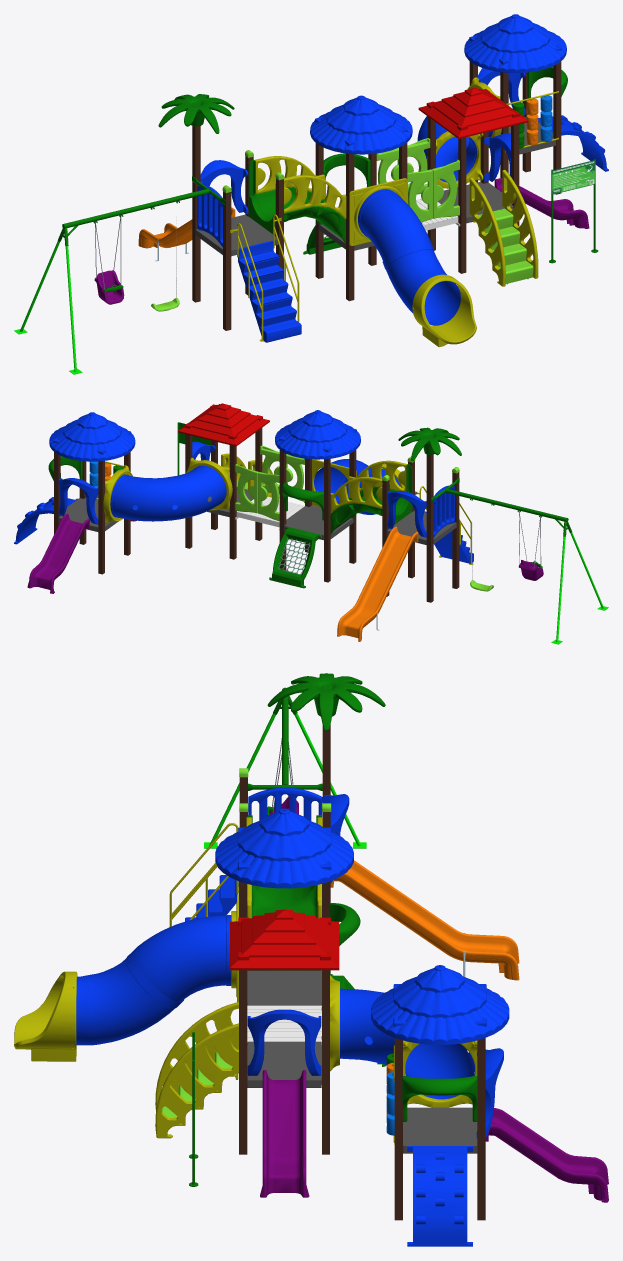
The picture shows the model from 3 angles, top to bottom: view 1: azimuth 30°, elevation 25°; view 2: azimuth 150°, elevation 25°; view 3: azimuth 270°, elevation 25°; orthographic projection. The views are drawn at different scales.
Visible parts, largest first — view 1: object 13, object 16, object 5, object 22, TOLDO M2, TOLDO M2.001, LATERAL M2, LATERAL M1, LATERAL M2.001, COLUNA MAD PLAST 9 X 9CM.008, PLATAFORMA M1.002, ESCORREGADOR M5 (+15 smaller); view 2: object 13, object 16, object 22, TOLDO M2.001, TOLDO M2, object 5, ESCORREGADOR M5.001, COLUNA MAD PLAST 9 X 9CM.008, LATERAL M1.002, PLATAFORMA M1.004, LATERAL M1, PORTAL M4.001 (+15 smaller); view 3: object 13, object 16, object 22, TOLDO M2, TOLDO M2.001, ESCORREGADOR M5, LATERAL M2.001, ESCORREGADOR M5.001, PLATAFORMA M1, PLATAFORMA M1.004, PLATAFORMA M1.006, PORTAL M4 (+6 smaller).
Boxes of the visible parts, x1,y1,x2,y2 form: object 13: [14, 102, 608, 374]; object 16: [158, 66, 567, 346]; object 5: [151, 138, 533, 311]; object 22: [416, 87, 558, 230]; TOLDO M2: [310, 95, 412, 154]; TOLDO M2.001: [464, 14, 566, 72]; LATERAL M2: [469, 177, 505, 286]; LATERAL M1: [284, 175, 346, 218]; LATERAL M2.001: [502, 170, 538, 278]; COLUNA MAD PLAST 9 X 9CM.008: [192, 126, 200, 302]; PLATAFORMA M1.002: [195, 214, 278, 256]; ESCORREGADOR M5: [494, 178, 589, 228]; object 13: [14, 422, 608, 644]; object 16: [48, 427, 461, 588]; object 22: [89, 403, 304, 527]; TOLDO M2.001: [49, 412, 135, 461]; TOLDO M2: [275, 410, 360, 459]; object 5: [235, 445, 493, 591]; ESCORREGADOR M5.001: [27, 513, 89, 593]; COLUNA MAD PLAST 9 X 9CM.008: [426, 454, 433, 602]; LATERAL M1.002: [330, 476, 382, 513]; PLATAFORMA M1.004: [284, 505, 353, 540]; LATERAL M1: [348, 460, 407, 497]; PORTAL M4.001: [58, 478, 98, 524]; object 13: [76, 687, 519, 1246]; object 16: [14, 673, 477, 1121]; object 22: [230, 909, 394, 1144]; TOLDO M2: [215, 808, 353, 888]; TOLDO M2.001: [371, 965, 509, 1044]; ESCORREGADOR M5: [260, 1070, 309, 1197]; LATERAL M2.001: [155, 1023, 238, 1138]; ESCORREGADOR M5.001: [485, 1108, 608, 1202]; PLATAFORMA M1: [403, 1107, 477, 1153]; PLATAFORMA M1.004: [247, 970, 321, 1005]; PLATAFORMA M1.006: [247, 1041, 321, 1087]; PORTAL M4: [247, 1009, 321, 1075].
Size of the model in its own units: 10.5 by 3.36 by 6.54.
Materials: 23 (3 with a texture image).
